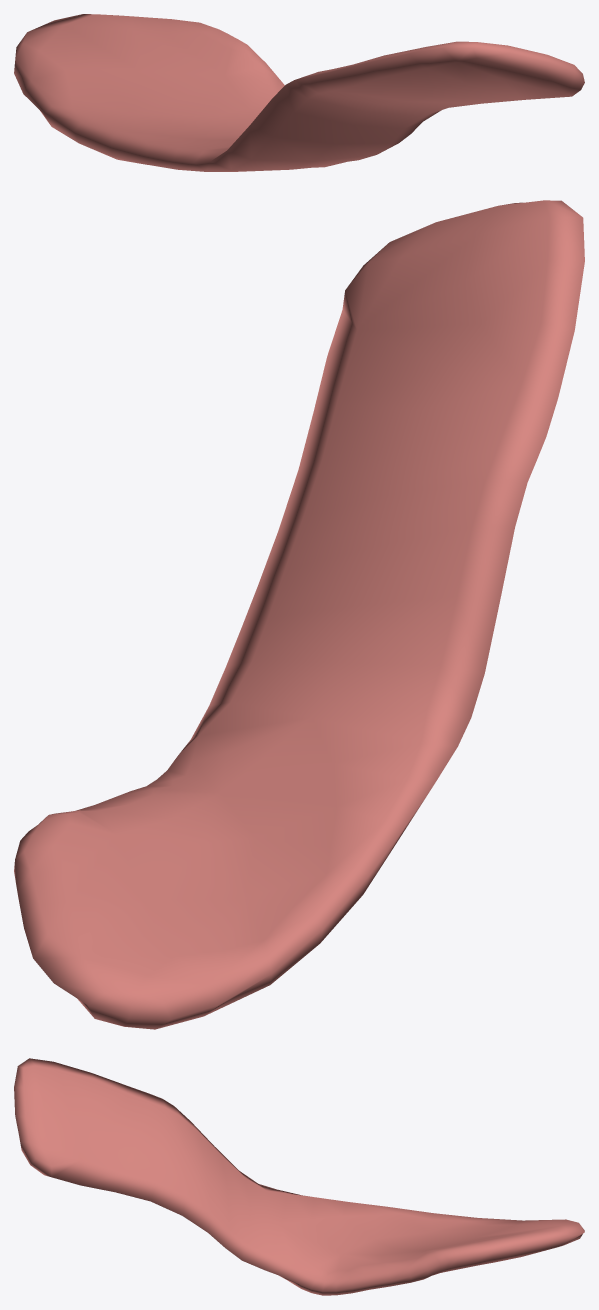
3 renders of one model, top to bottom at view 1: azimuth 30°, elevation 25°; view 2: azimuth 150°, elevation 25°; view 3: azimuth 270°, elevation 25°, orthographic. The views are drawn at different scales.
Parts seen in each view (by area): view 1: ZA_3517c0ca1e558657; view 2: ZA_3517c0ca1e558657; view 3: ZA_3517c0ca1e558657.
Part boxes in pixels (x1,y1,x2,y2): ZA_3517c0ca1e558657: [14, 14, 584, 171]; ZA_3517c0ca1e558657: [14, 200, 584, 1029]; ZA_3517c0ca1e558657: [14, 1058, 584, 1295].
Size of the model in its own units: 0.00422 by 0.00472 by 0.0115.
